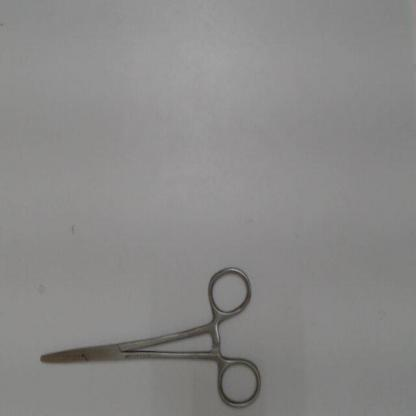Mayo Needle Holder: (34, 252, 272, 413)
